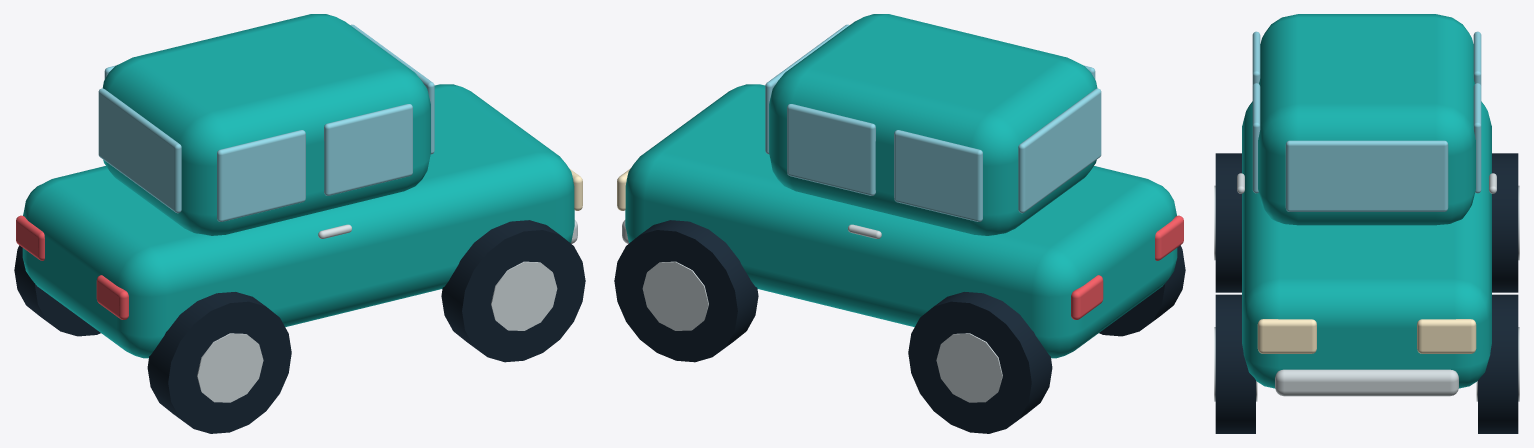
Rendered from car.glb.
The picture shows the model from 3 angles, left to right: view 1: azimuth 30°, elevation 25°; view 2: azimuth 150°, elevation 25°; view 3: azimuth 270°, elevation 25°; orthographic projection.
Parts seen in each view (by area): view 1: Turquoise body, Cabin, Rubber tire (×3), Wheel hub (×2), Side front window, Side rear window, Rear window, Tail light (×2), Windshield; view 2: Turquoise body, Cabin, Rubber tire (×3), Wheel hub (×2), Side front window, Side rear window, Rear window, Tail light (×2), Windshield; view 3: Turquoise body, Cabin, Rubber tire (×4), Windshield, Front bumper, Headlight (×2), Side front window (×2), Side rear window (×2).
Boxes of the visible parts, <box> form: Turquoise body: <box>22,84,574,358</box>; Cabin: <box>102,14,430,235</box>; Rubber tire (×3): <box>14,220,585,433</box>; Wheel hub (×2): <box>197,261,557,402</box>; Side front window: <box>324,104,412,195</box>; Side rear window: <box>217,130,305,221</box>; Rear window: <box>98,88,181,213</box>; Tail light (×2): <box>16,215,128,319</box>; Windshield: <box>350,24,434,154</box>; Turquoise body: <box>625,84,1177,358</box>; Cabin: <box>769,14,1097,235</box>; Rubber tire (×3): <box>614,220,1185,433</box>; Wheel hub (×2): <box>642,261,1002,402</box>; Side front window: <box>787,104,875,195</box>; Side rear window: <box>894,130,982,221</box>; Rear window: <box>1018,88,1101,213</box>; Tail light (×2): <box>1071,215,1183,319</box>; Windshield: <box>765,24,849,154</box>; Turquoise body: <box>1242,101,1491,388</box>; Cabin: <box>1258,14,1475,225</box>; Rubber tire (×4): <box>1215,153,1518,433</box>; Windshield: <box>1285,140,1448,211</box>; Front bumper: <box>1275,369,1458,396</box>; Headlight (×2): <box>1257,319,1476,353</box>; Side front window (×2): <box>1252,83,1481,193</box>; Side rear window (×2): <box>1252,31,1481,85</box>.
Bounding box in the file's own units: 1 × 0.5822 × 0.5751.
